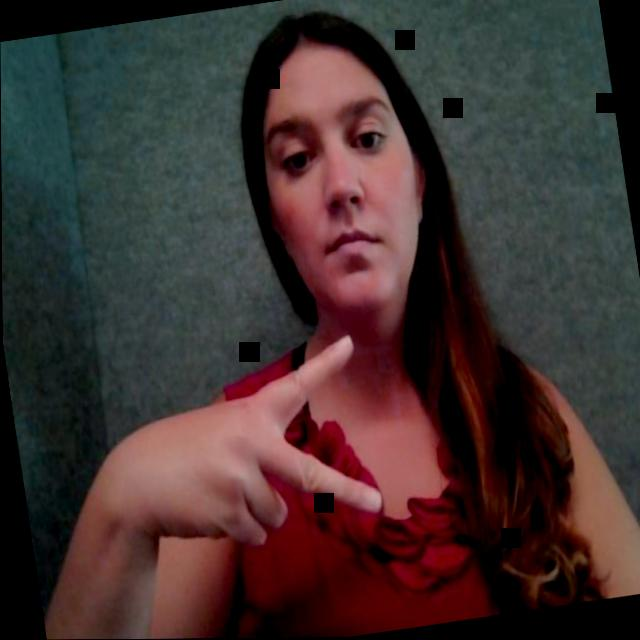Scissors: (59, 302, 441, 640)
